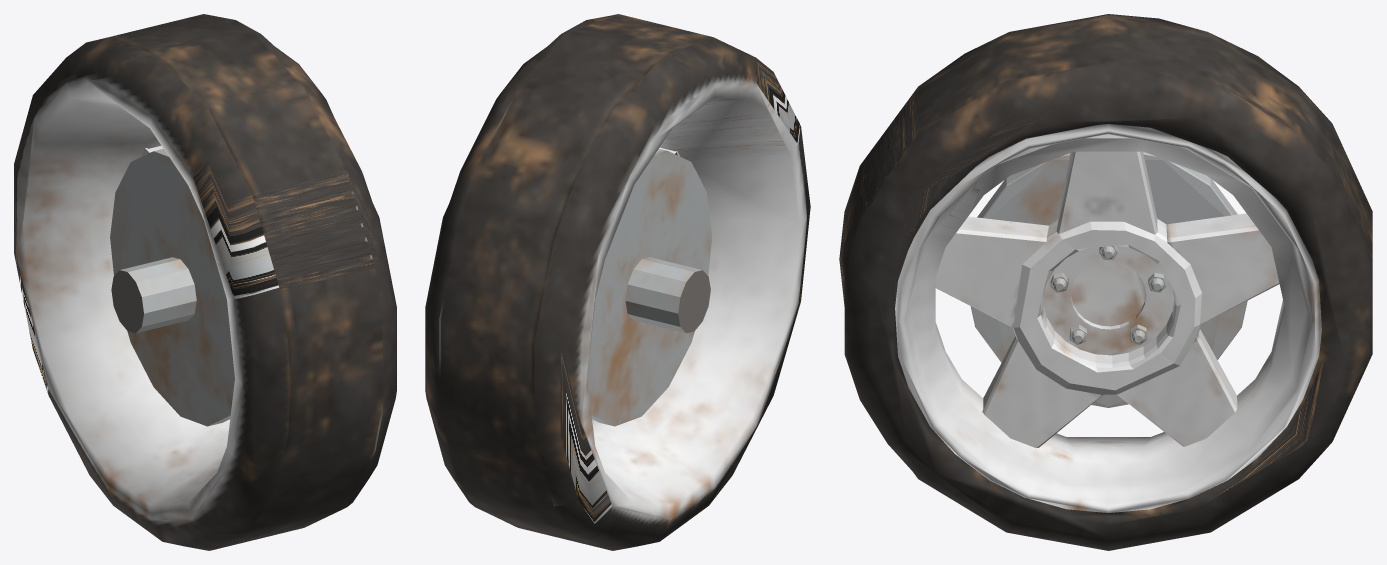
Rendered from wheel.glb.
The picture shows the model from 3 angles, left to right: view 1: azimuth 30°, elevation 25°; view 2: azimuth 150°, elevation 25°; view 3: azimuth 270°, elevation 25°; orthographic projection. The views are drawn at different scales.
Visible parts, largest first — view 1: wheel; view 2: wheel; view 3: wheel.
Boxes of the visible parts, x1=… form: wheel: x1=14, y1=14, x2=396, y2=550; wheel: x1=425, y1=14, x2=810, y2=550; wheel: x1=839, y1=14, x2=1372, y2=550.
Size of the model in its own units: 0.3505 by 1.02 by 1.01.
Materials: 1 (1 with a texture image).
